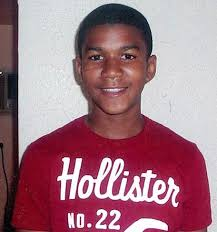person: (74, 3, 157, 118)
